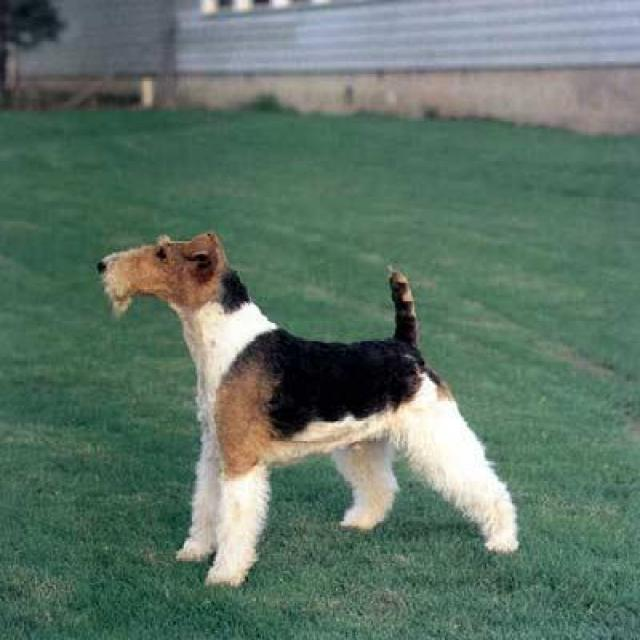good: (93, 228, 534, 582)
